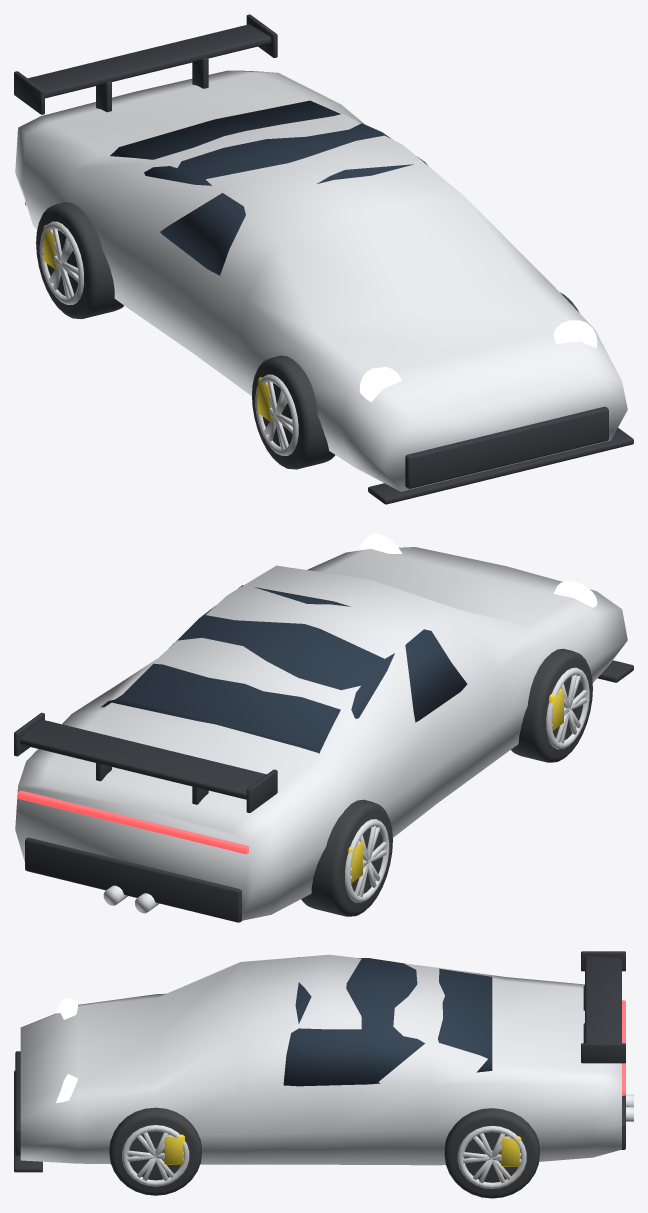
Rendered from porsche_911.glb.
The picture shows the model from 3 angles, top to bottom: view 1: azimuth 30°, elevation 25°; view 2: azimuth 150°, elevation 25°; view 3: azimuth 270°, elevation 25°; orthographic projection. The views are drawn at different scales.
Visible parts, largest first — view 1: p911_body, p911_glass, p911_front_intake, gt3_wing_blade, wheel_rl_tire, wheel_fl_tire, p911_splitter, wheel_rl_lip, wheel_fl_lip, p911_hl_-0.7, p911_hl_0.7, gt3_endplate_-0.8; view 2: p911_body, p911_glass, p911_rear_grille, gt3_wing_blade, wheel_rl_tire, wheel_fl_tire, p911_lightbar, wheel_rl_lip, wheel_fl_lip, gt3_endplate_-0.8, p911_hl_-0.7, p911_hl_0.7; view 3: p911_body, p911_glass, wheel_rr_tire, wheel_fr_tire, gt3_wing_blade, wheel_rr_lip, wheel_fr_lip, gt3_endplate_0.8, p911_front_intake, wheel_fr_caliper, p911_splitter, wheel_rr_caliper (+2 smaller).
Boxes of the visible parts, left/top/right/bottom form: p911_body: left=15, top=70, right=627, bottom=491; p911_glass: left=110, top=100, right=427, bottom=275; p911_front_intake: left=405, top=406, right=608, bottom=488; gt3_wing_blade: left=28, top=24, right=271, bottom=98; wheel_rl_tire: left=36, top=202, right=123, bottom=319; wheel_fl_tire: left=252, top=355, right=335, bottom=469; p911_splitter: left=368, top=428, right=633, bottom=504; wheel_rl_lip: left=39, top=221, right=83, bottom=304; wheel_fl_lip: left=255, top=374, right=298, bottom=455; p911_hl_-0.7: left=359, top=367, right=401, bottom=402; p911_hl_0.7: left=553, top=320, right=597, bottom=348; gt3_endplate_-0.8: left=14, top=71, right=44, bottom=114; p911_body: left=15, top=547, right=627, bottom=920; p911_glass: left=101, top=585, right=467, bottom=753; p911_rear_grille: left=25, top=837, right=241, bottom=922; gt3_wing_blade: left=20, top=719, right=266, bottom=799; wheel_rl_tire: left=301, top=799, right=392, bottom=916; wheel_fl_tire: left=511, top=648, right=592, bottom=762; p911_lightbar: left=17, top=790, right=248, bottom=854; wheel_rl_lip: left=345, top=819, right=389, bottom=902; wheel_fl_lip: left=546, top=667, right=589, bottom=749; gt3_endplate_-0.8: left=246, top=769, right=277, bottom=812; p911_hl_-0.7: left=554, top=581, right=597, bottom=607; p911_hl_0.7: left=359, top=533, right=401, bottom=553; p911_body: left=20, top=954, right=621, bottom=1165; p911_glass: left=283, top=957, right=492, bottom=1086; wheel_rr_tire: left=444, top=1108, right=539, bottom=1198; wheel_fr_tire: left=109, top=1107, right=201, bottom=1195; gt3_wing_blade: left=585, top=956, right=621, bottom=1043; wheel_rr_lip: left=457, top=1126, right=526, bottom=1188; wheel_fr_lip: left=122, top=1125, right=189, bottom=1186; gt3_endplate_0.8: left=581, top=1043, right=625, bottom=1063; p911_front_intake: left=15, top=1051, right=20, bottom=1155; wheel_fr_caliper: left=163, top=1134, right=184, bottom=1164; p911_splitter: left=14, top=1070, right=42, bottom=1172; wheel_rr_caliper: left=500, top=1136, right=521, bottom=1166.
Bounding box in the file's own units: 2.18 × 1.28 × 4.68.
